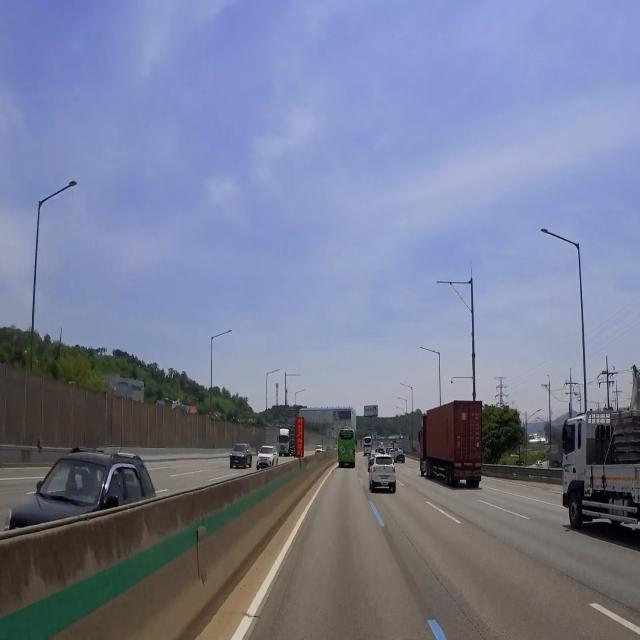car: (378, 474, 391, 483)
